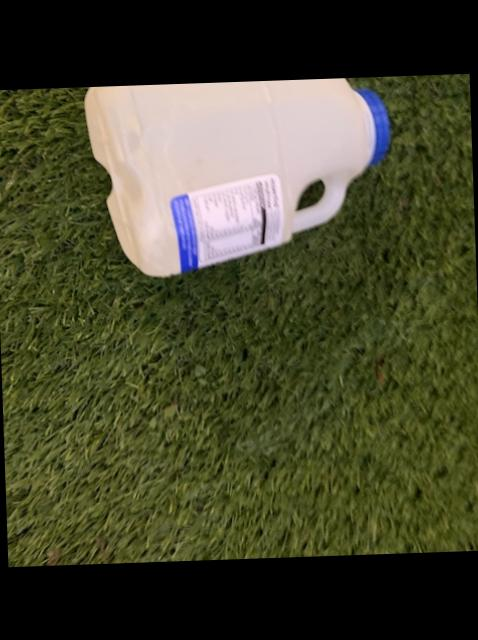plastic: (87, 77, 390, 274)
